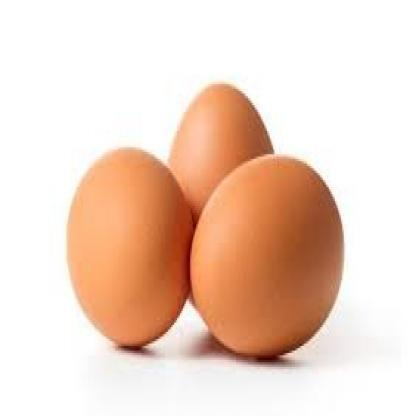egg: (188, 153, 347, 365), (64, 145, 196, 351), (164, 76, 278, 233)
